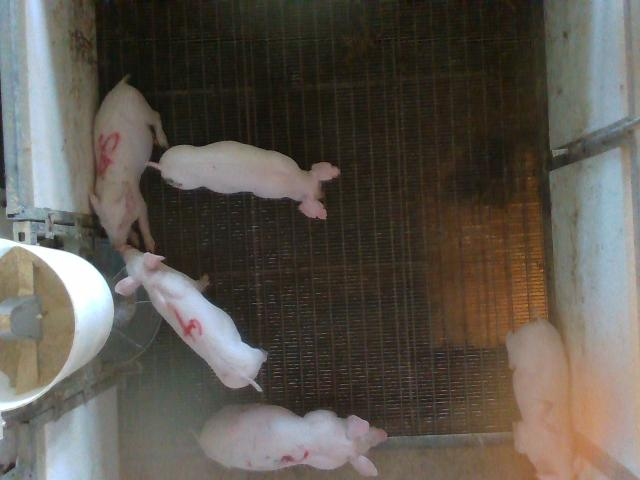pig-2: (506, 319, 574, 479)
pig-3: (196, 405, 386, 476)
pig-4: (116, 246, 266, 391)
pig-5: (90, 75, 168, 252)
